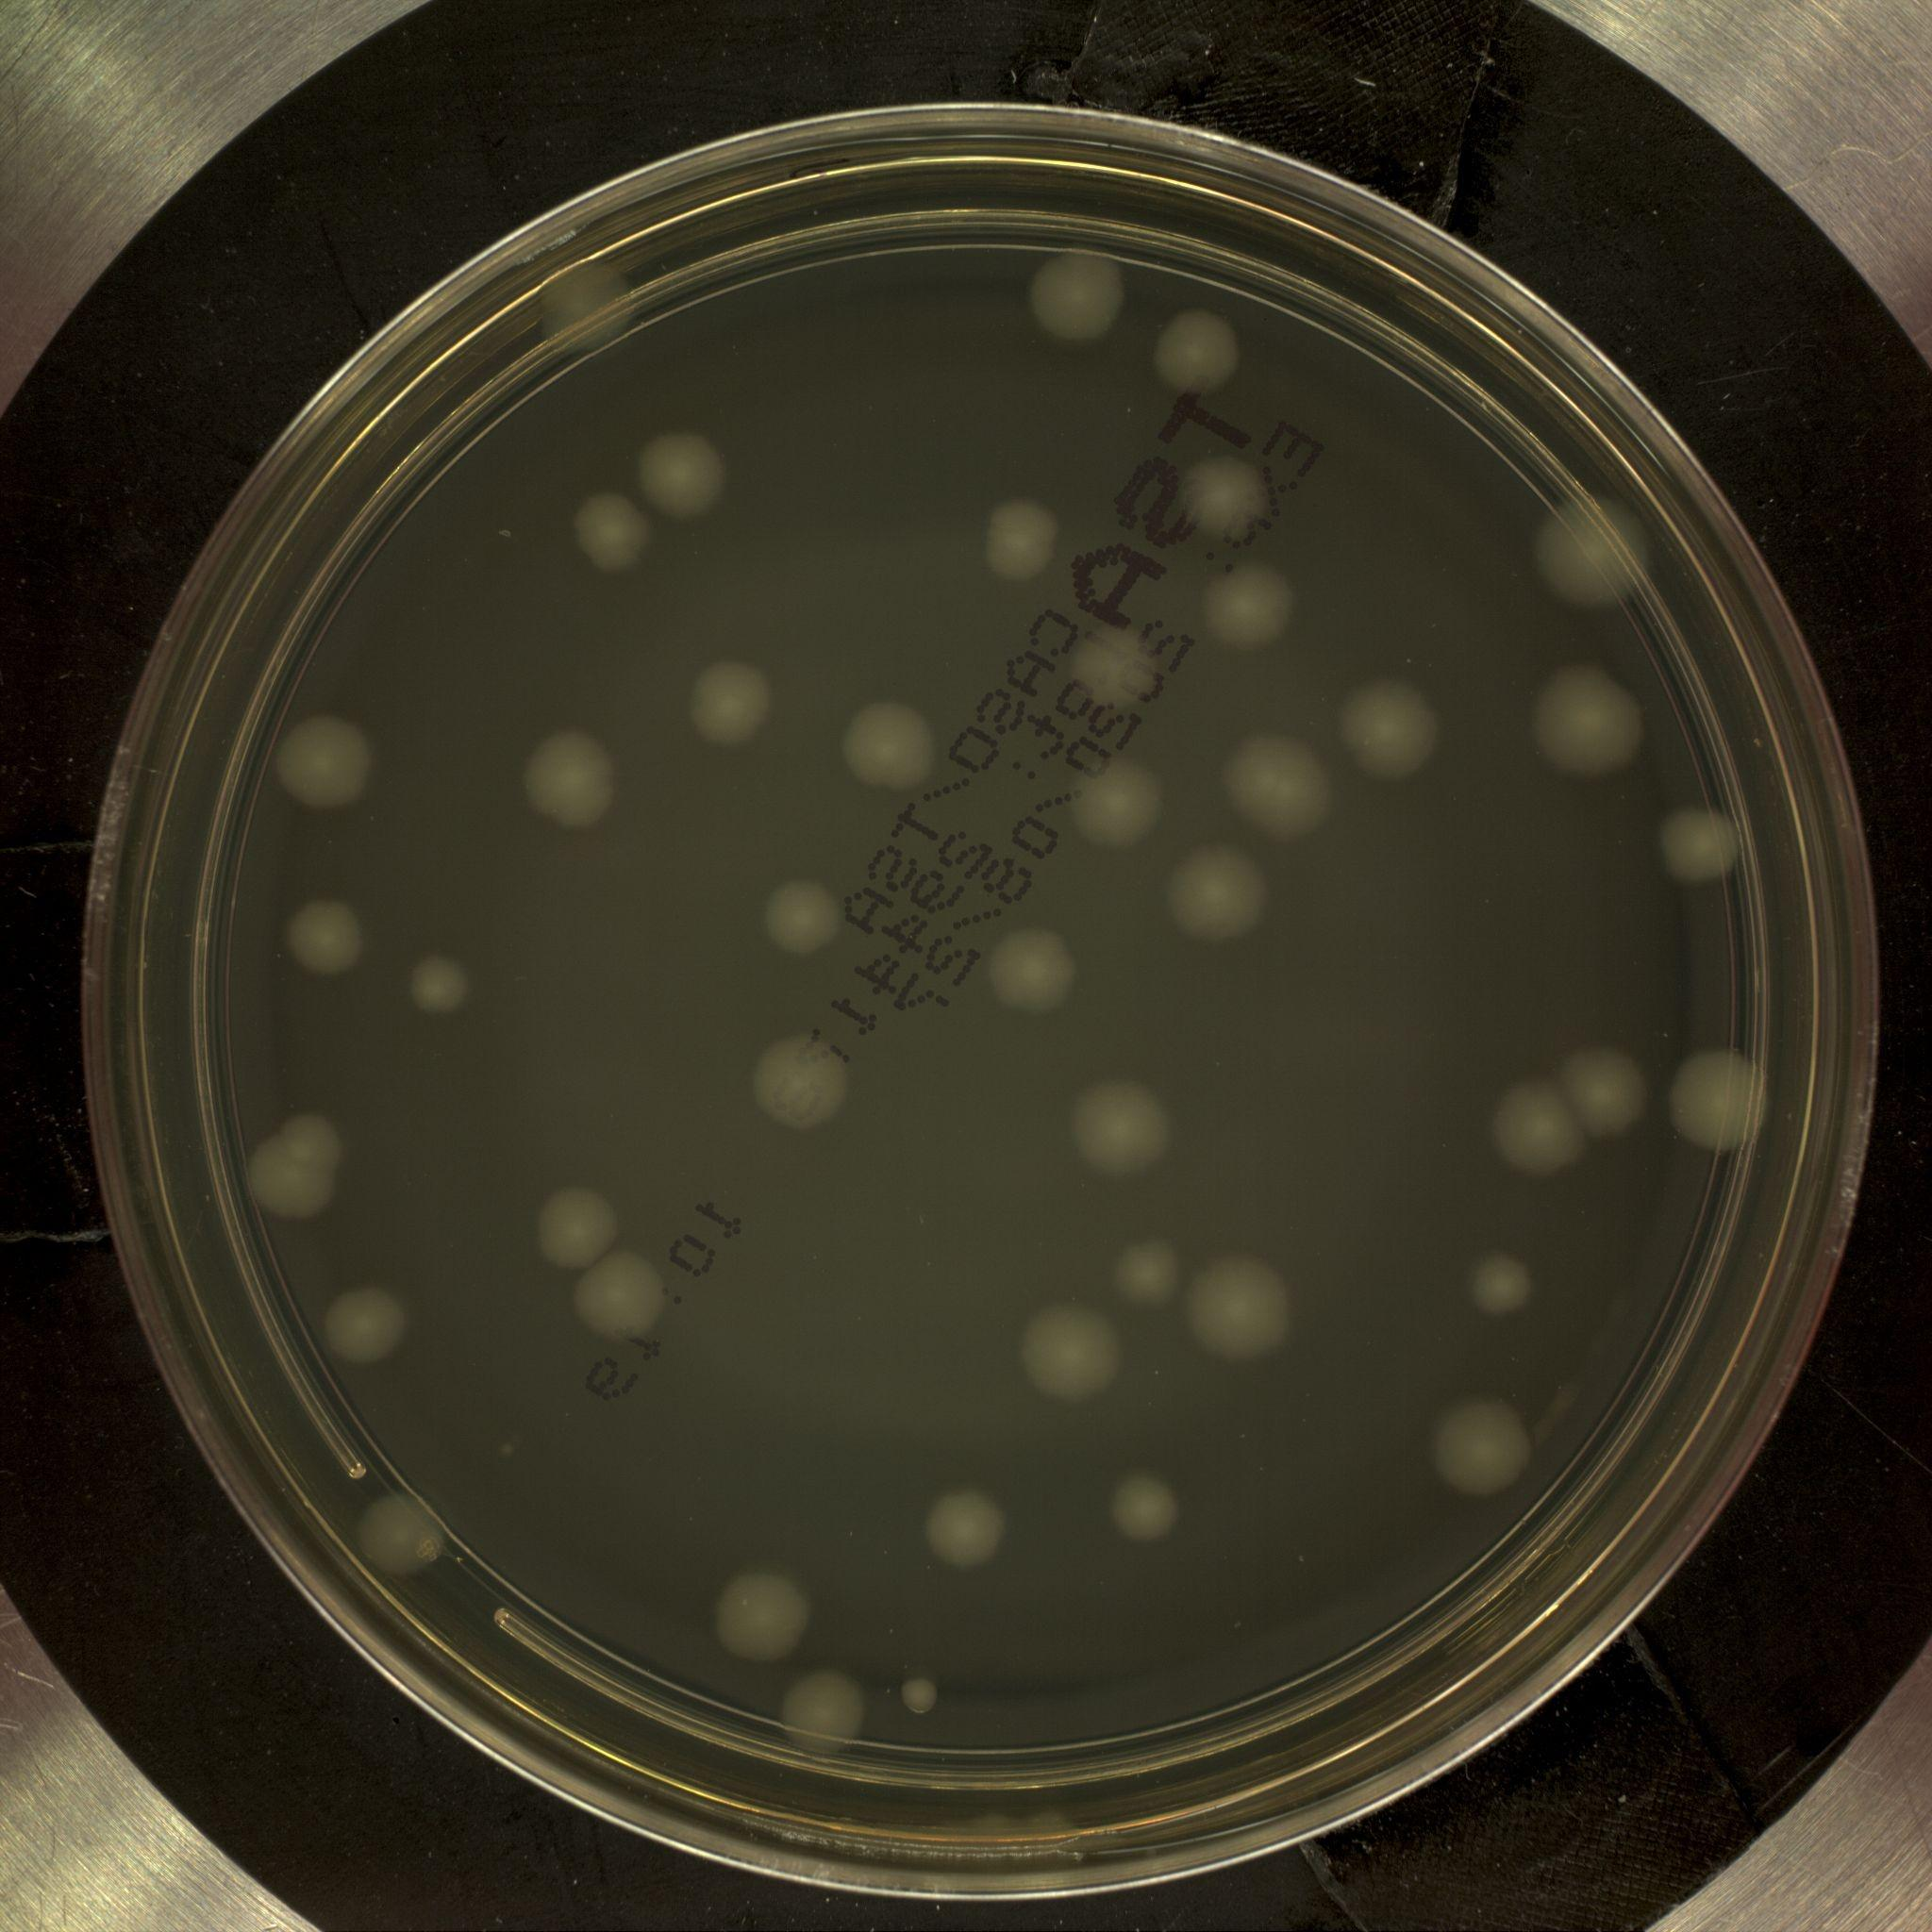e. coli: (1532, 488, 1656, 607), (1534, 667, 1642, 771), (1675, 1046, 1773, 1152), (541, 253, 642, 354), (248, 1123, 343, 1221), (1435, 1403, 1527, 1502), (1077, 1083, 1175, 1175), (1030, 253, 1125, 345), (1345, 681, 1437, 777), (527, 734, 619, 830), (1026, 1304, 1116, 1401), (354, 1490, 444, 1587), (1237, 734, 1323, 835), (1201, 1261, 1288, 1361), (720, 1573, 809, 1665), (280, 720, 368, 812), (692, 658, 778, 748), (637, 426, 727, 511), (1169, 849, 1256, 936), (927, 1486, 1014, 1571), (754, 1042, 842, 1125), (1184, 448, 1270, 531), (849, 701, 932, 787), (580, 1260, 662, 1346), (1661, 809, 1746, 890), (1074, 630, 1155, 713), (577, 488, 656, 573), (331, 1283, 410, 1366), (1564, 1047, 1642, 1132), (1074, 771, 1161, 847), (287, 897, 368, 977), (1499, 1088, 1573, 1175), (1159, 313, 1240, 391), (989, 932, 1074, 1007), (784, 1672, 862, 1752), (982, 497, 1062, 575), (1205, 571, 1288, 646), (545, 1191, 614, 1269), (1109, 1474, 1175, 1550), (775, 883, 840, 950), (410, 957, 471, 1017), (1472, 1260, 1536, 1316), (1118, 1242, 1178, 1297)
